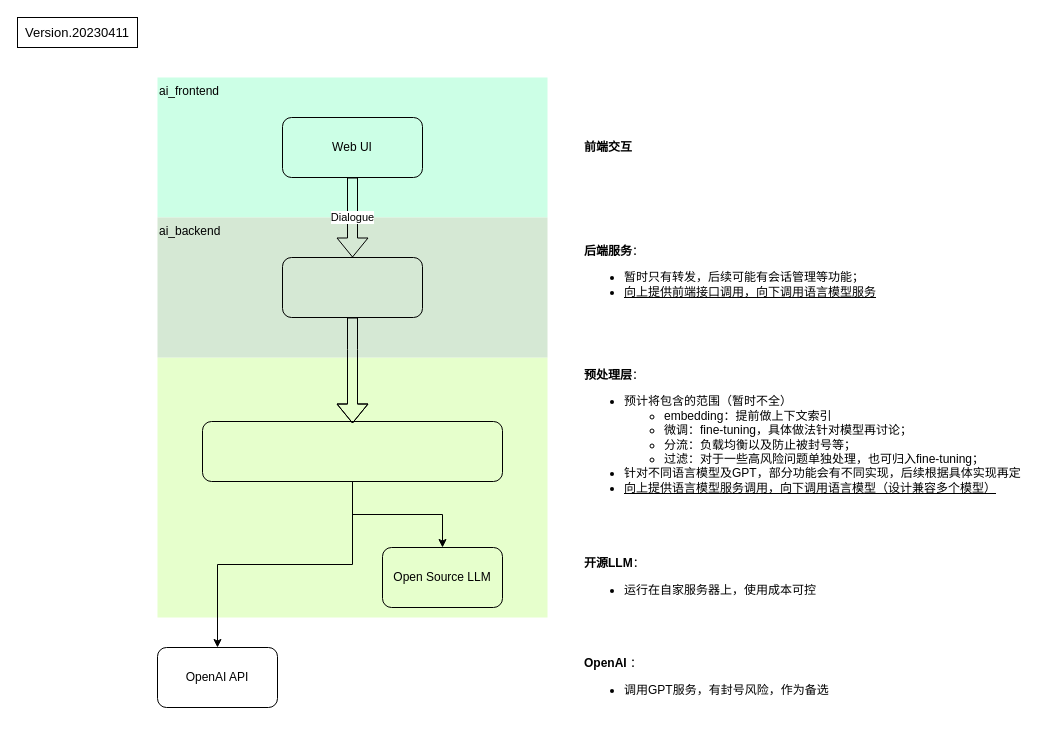
The diagram is 1060 pixels wide and 735 high, and some of its shapes have lost their labels. The box of each missing label's shape, as (x1, y1, x2, y2) in pixels:
chatbot: (157, 357, 547, 617)
Secure Filter layer Embedding/index fine-tuning ...: (202, 420, 502, 482)
session management/ forwarding/ ...: (282, 256, 422, 318)
